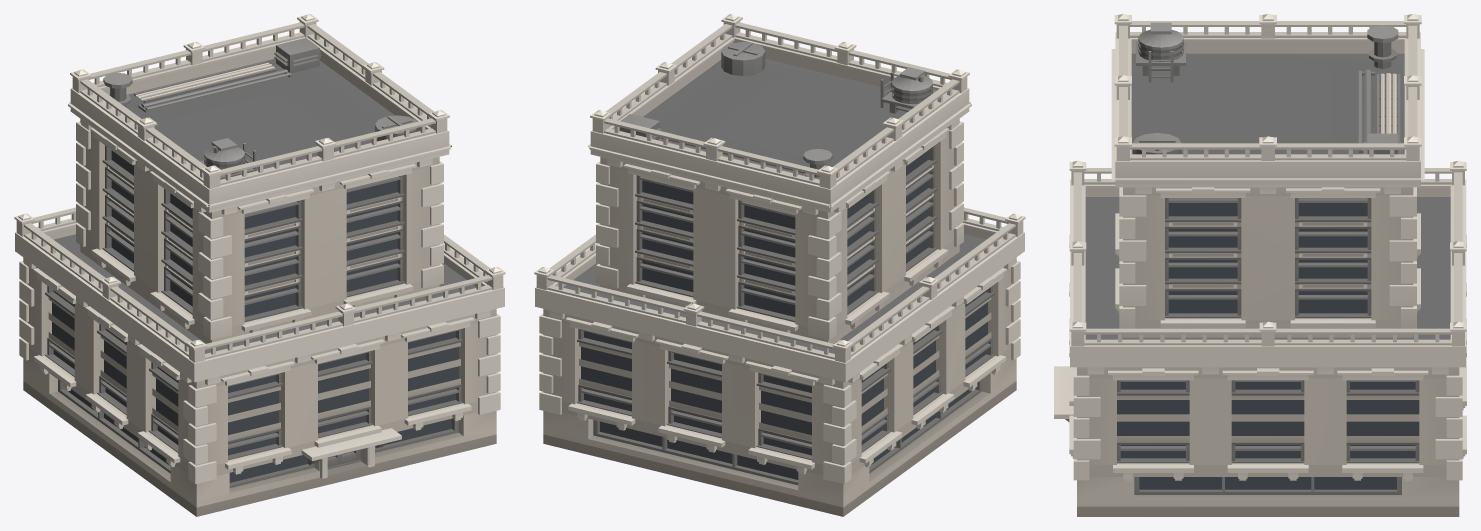
File: building-midrise-setback-near.glb
The picture shows the model from 3 angles, left to right: view 1: azimuth 30°, elevation 25°; view 2: azimuth 150°, elevation 25°; view 3: azimuth 270°, elevation 25°; orthographic projection. The views are drawn at different scales.
Visible parts, largest first — view 1: Building; view 2: Building; view 3: Building.
Part boxes in pixels (<box>): Building: <box>14,14,505,516</box>; Building: <box>534,14,1025,516</box>; Building: <box>1054,14,1466,516</box>.
Bounding box in the file's own units: 1.04 × 1.05 × 1.08.
